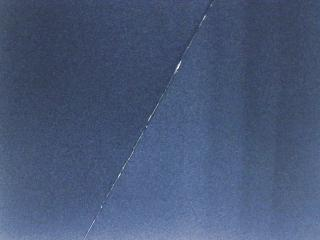crack: (79, 0, 218, 240)
